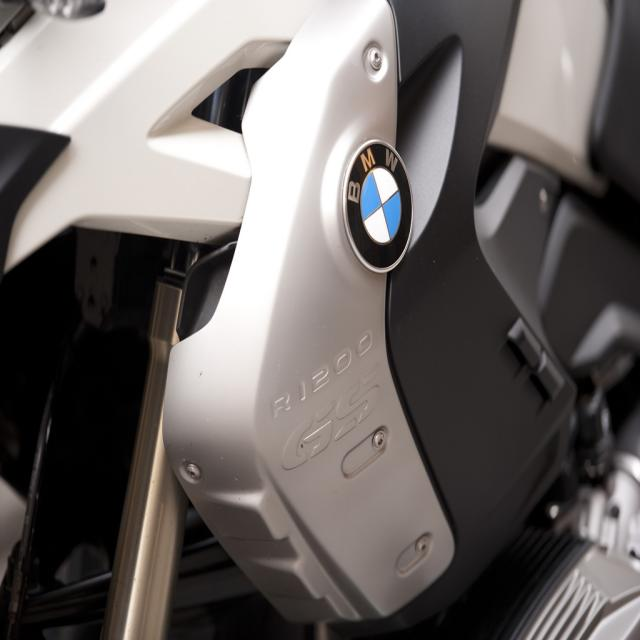bmw: (340, 138, 417, 278)
